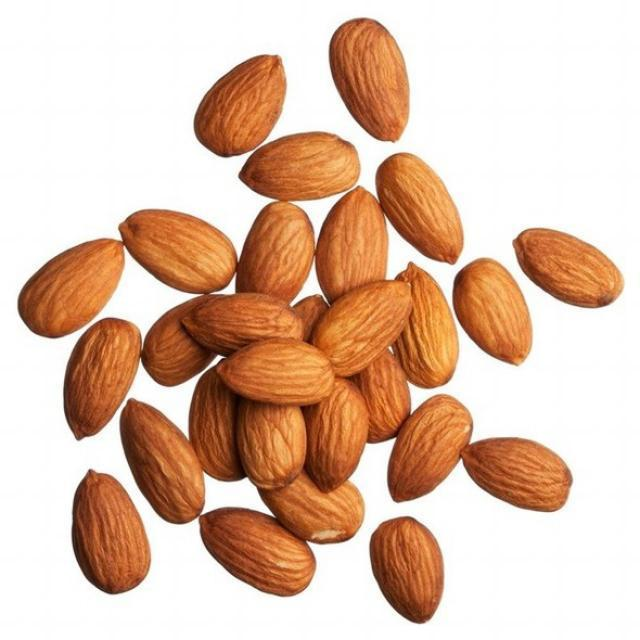almond: (117, 398, 208, 525), (17, 237, 127, 338), (115, 208, 238, 297), (199, 507, 319, 598), (70, 465, 152, 595), (328, 15, 412, 140), (62, 317, 143, 443), (374, 150, 464, 263), (312, 282, 417, 378), (192, 53, 288, 157), (512, 225, 625, 308), (387, 393, 473, 502), (460, 433, 573, 512), (237, 197, 317, 302), (237, 132, 360, 200), (392, 262, 457, 390), (182, 292, 310, 357), (317, 183, 388, 300), (455, 257, 530, 365), (370, 515, 445, 623), (217, 337, 335, 405), (307, 384, 370, 494), (263, 482, 367, 543), (237, 403, 305, 487)
